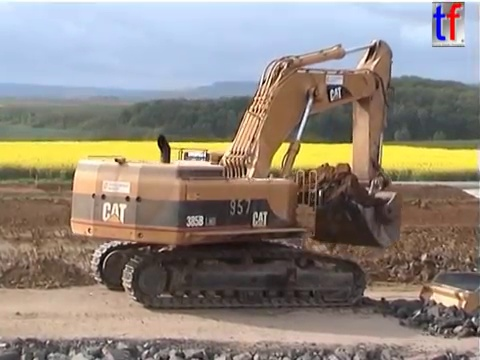excavator: (65, 36, 406, 314)
truck: (416, 268, 480, 324)
